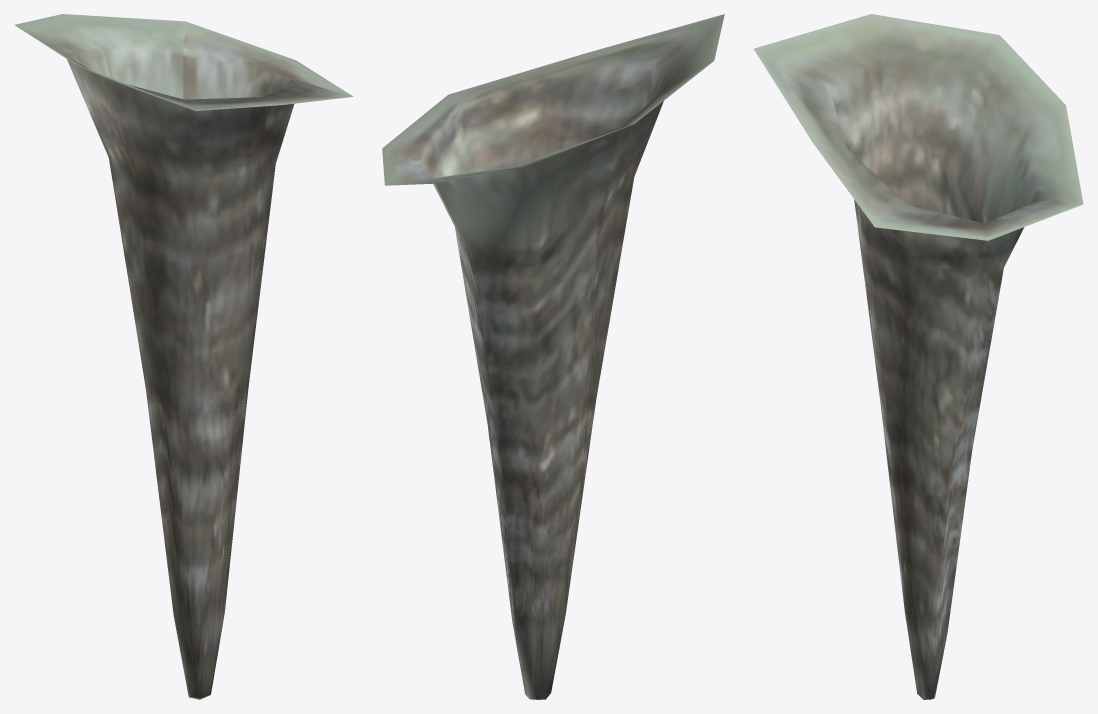
The model's file is TROLLHOLE02_PS-UPPERSTALAG09.fbx.
3 views of the same model, side by side, from view 1: azimuth 30°, elevation 25°; view 2: azimuth 150°, elevation 25°; view 3: azimuth 270°, elevation 25° (orthographic). The views are drawn at different scales.
Parts seen in each view (by area): view 1: TROLLHOLE02_PS-UPPERSTALAG09; view 2: TROLLHOLE02_PS-UPPERSTALAG09; view 3: TROLLHOLE02_PS-UPPERSTALAG09.
Part boxes in pixels (<box>): TROLLHOLE02_PS-UPPERSTALAG09: <box>14,14,353,699</box>; TROLLHOLE02_PS-UPPERSTALAG09: <box>382,14,724,699</box>; TROLLHOLE02_PS-UPPERSTALAG09: <box>754,14,1083,699</box>.
Size of the model in its own units: 12613 by 29160 by 14124.
Materials: 1 (1 with a texture image).
